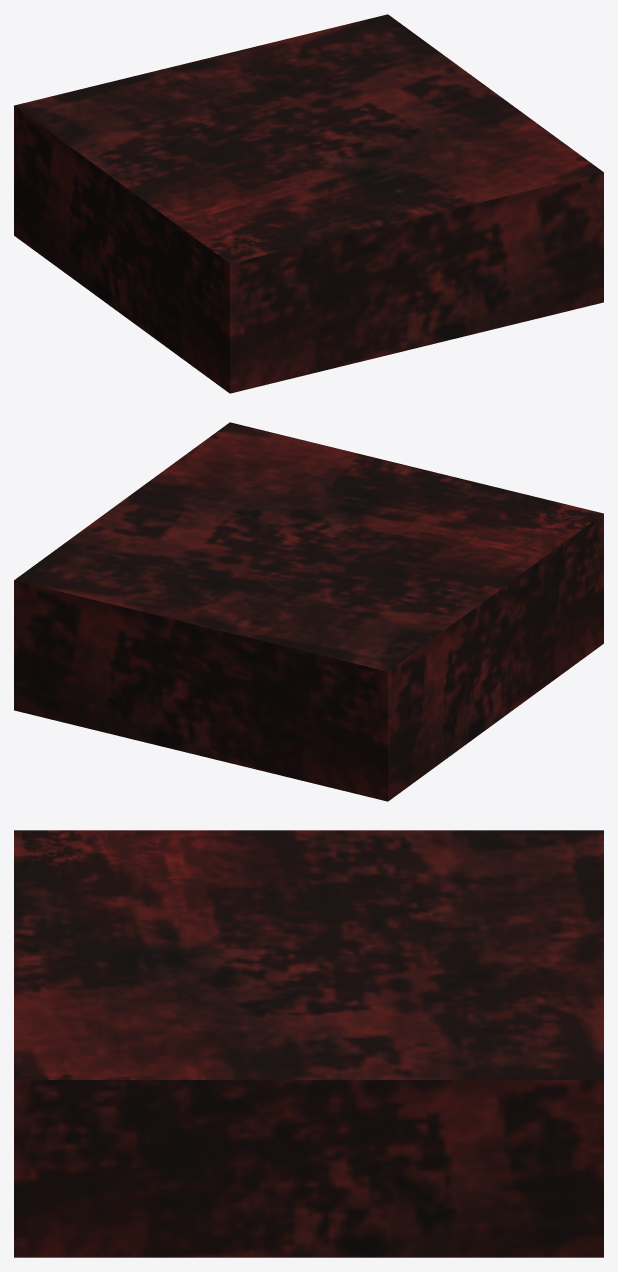
The model's file is hole.obj.
3 views of the same model, one above another, from view 1: azimuth 30°, elevation 25°; view 2: azimuth 150°, elevation 25°; view 3: azimuth 270°, elevation 25° (orthographic). The views are drawn at different scales.
Visible parts, largest first — view 1: hole; view 2: hole; view 3: hole.
Boxes of the visible parts, x1=… form: hole: x1=14, y1=14, x2=603, y2=393; hole: x1=14, y1=422, x2=603, y2=801; hole: x1=14, y1=830, x2=603, y2=1257.
Bounding box in the file's own units: 1 × 0.3323 × 1.
2 materials, 2 textured.
